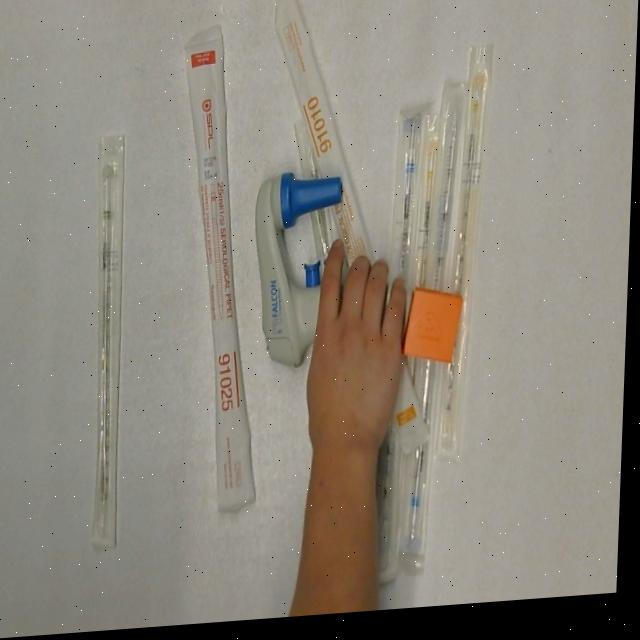Pipette Controller: (251, 164, 467, 382)
Serelogical Pipet 1 mL: (434, 58, 503, 468), (405, 118, 450, 372)
Serelogical Pipet 10 mL: (282, 0, 452, 461)
Serelogical Pipet 2 mL: (88, 131, 136, 557)
Serelogical Pipet 25 mL: (166, 19, 278, 523)
Serelogical Pipet 5 mL: (404, 88, 471, 582), (369, 100, 436, 590)
